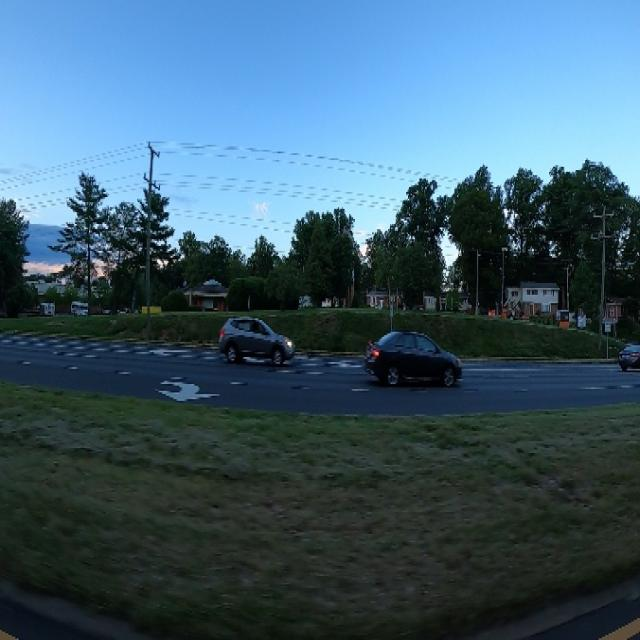cars: (360, 316, 464, 405), (210, 312, 297, 375), (617, 323, 640, 379)
